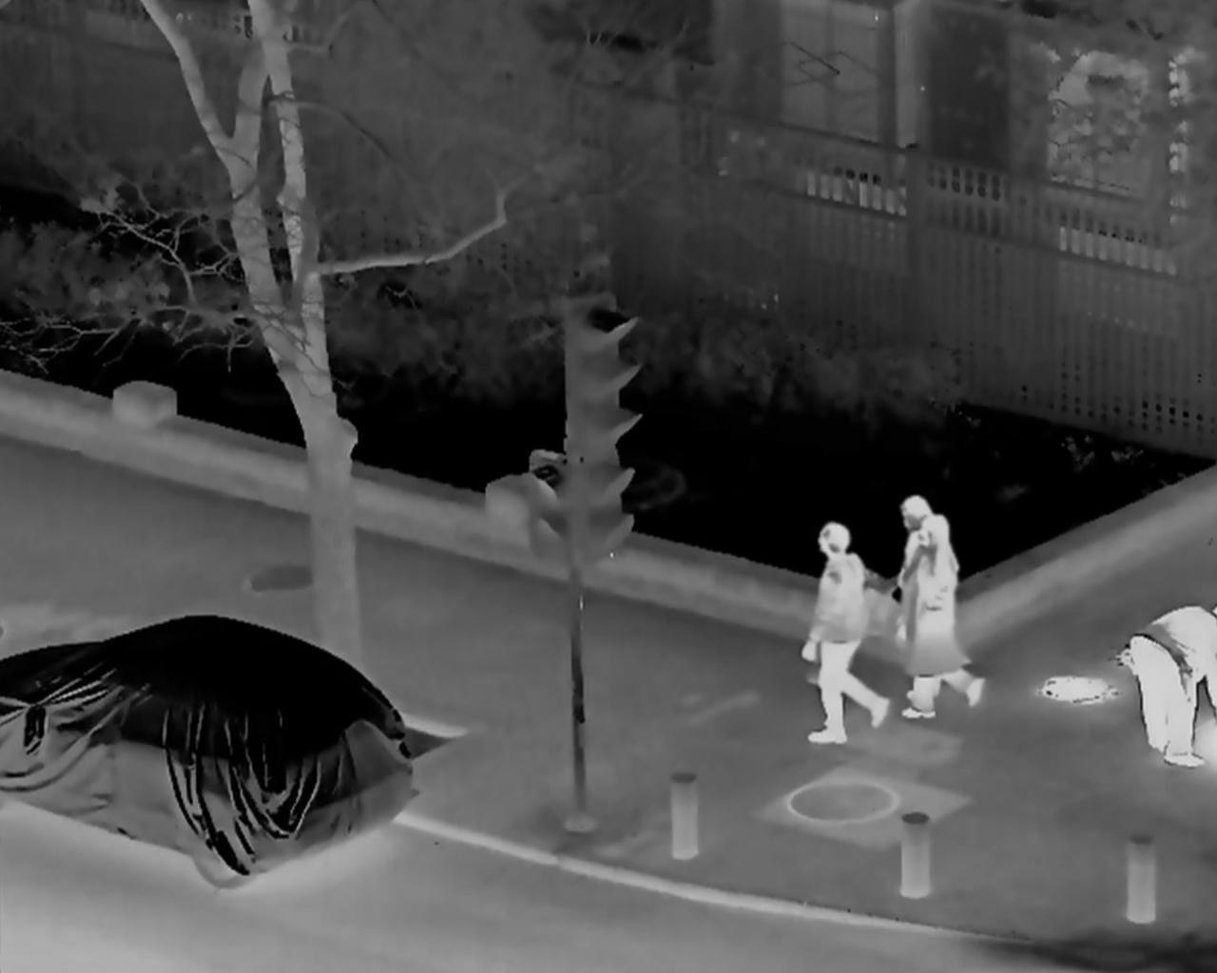person: (798, 525, 894, 748), (900, 523, 992, 716), (885, 499, 967, 700), (1130, 604, 1217, 766)
